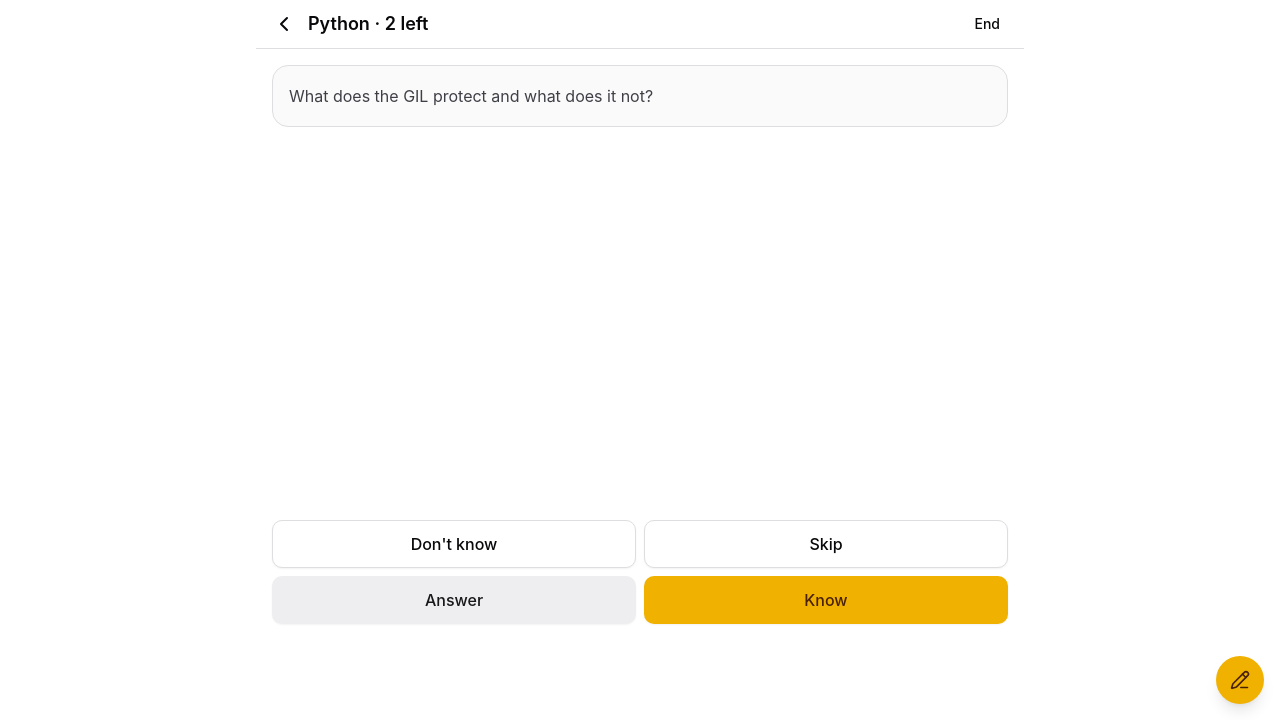
Scenario: Answer with the Sensei › keeps the conversation while the Card is on screen and sends it whole
Expected: the heading "Python · 2 left" is shown, x1=308 y1=13 x2=428 y2=34
Click the button "Know" at coordinates (826, 600), box x1=644 y1=576 x2=1008 y2=624
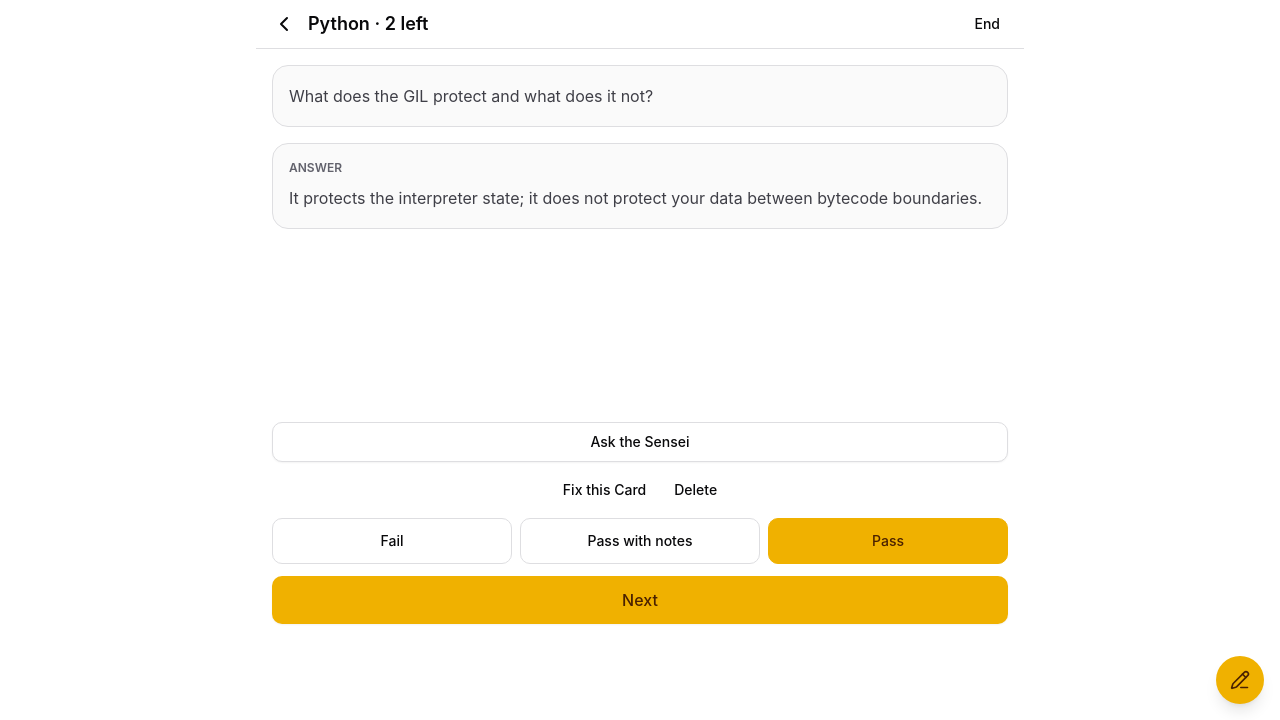
Click the button "Ask the Sensei" at coordinates (640, 442), box x1=272 y1=422 x2=1008 y2=462
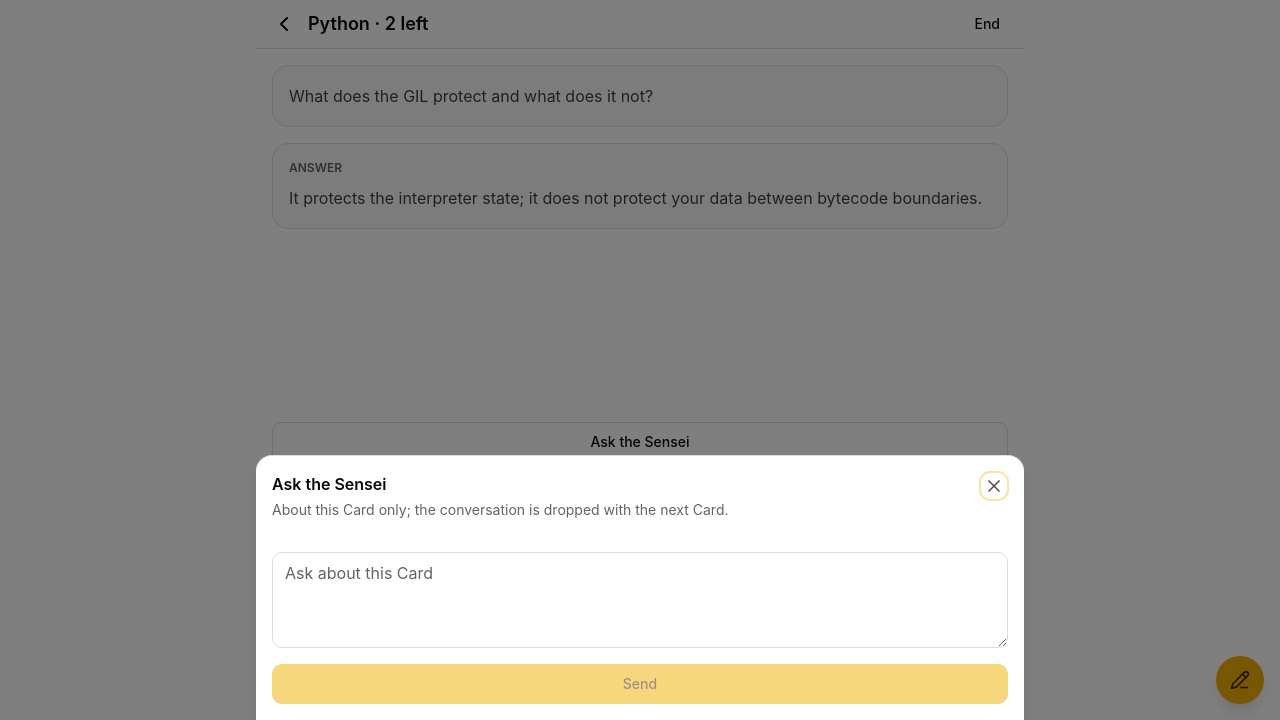
Type "Why?" into the text box named "Your question" at coordinates (640, 600), box x1=272 y1=552 x2=1008 y2=648
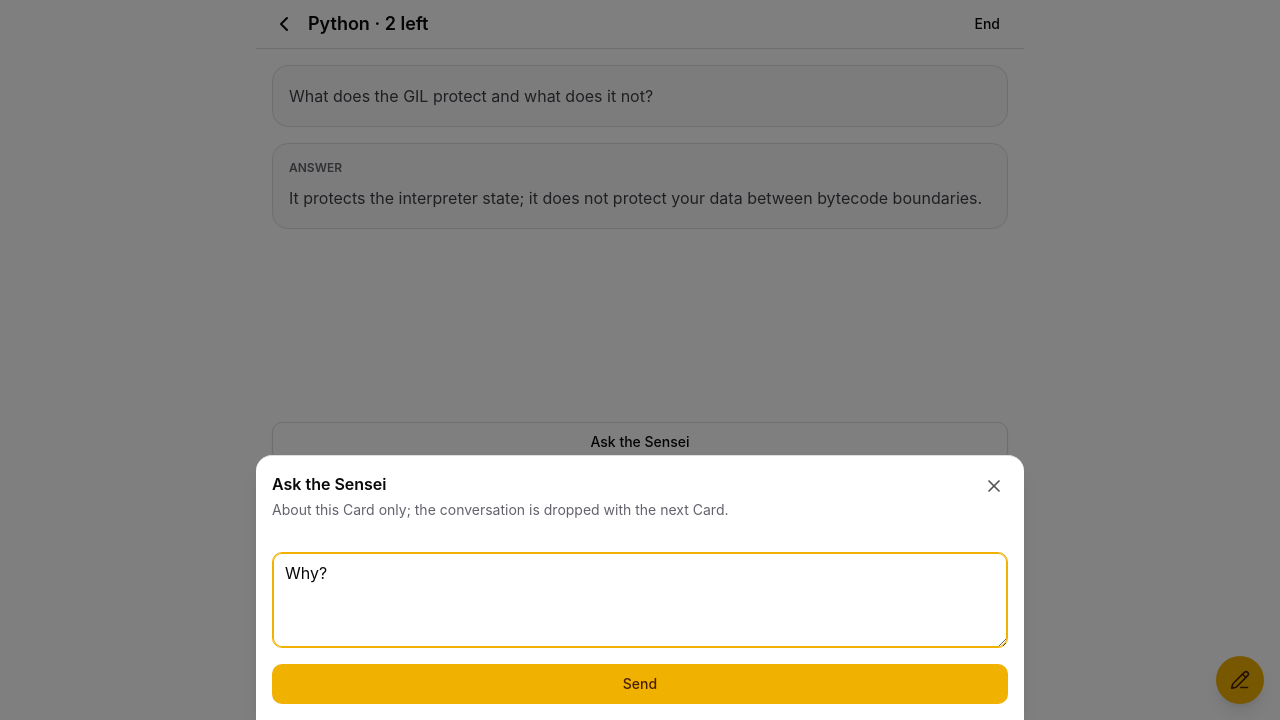
Click the button "Send" at coordinates (640, 684), box x1=272 y1=664 x2=1008 y2=704
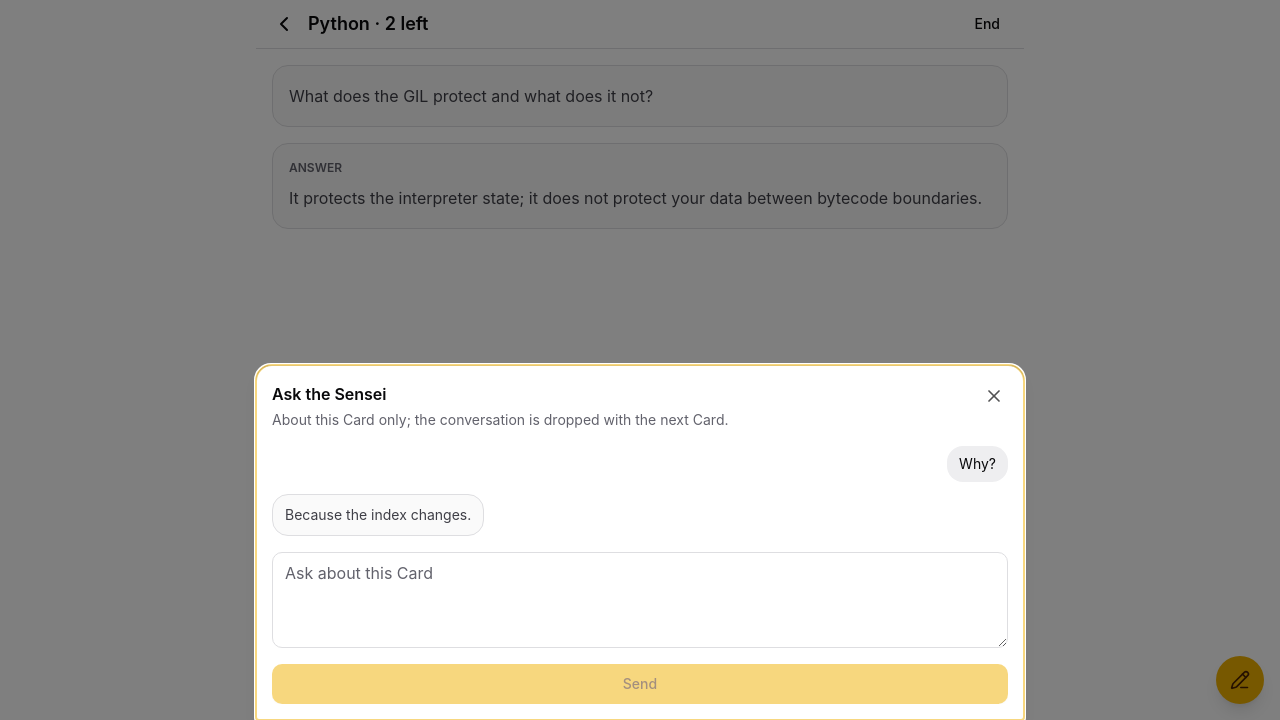
Expected: the text "Because the index changes." is shown, x1=285 y1=503 x2=471 y2=527
Type "Sure?" into the text box named "Your question" at coordinates (640, 600), box x1=272 y1=552 x2=1008 y2=648
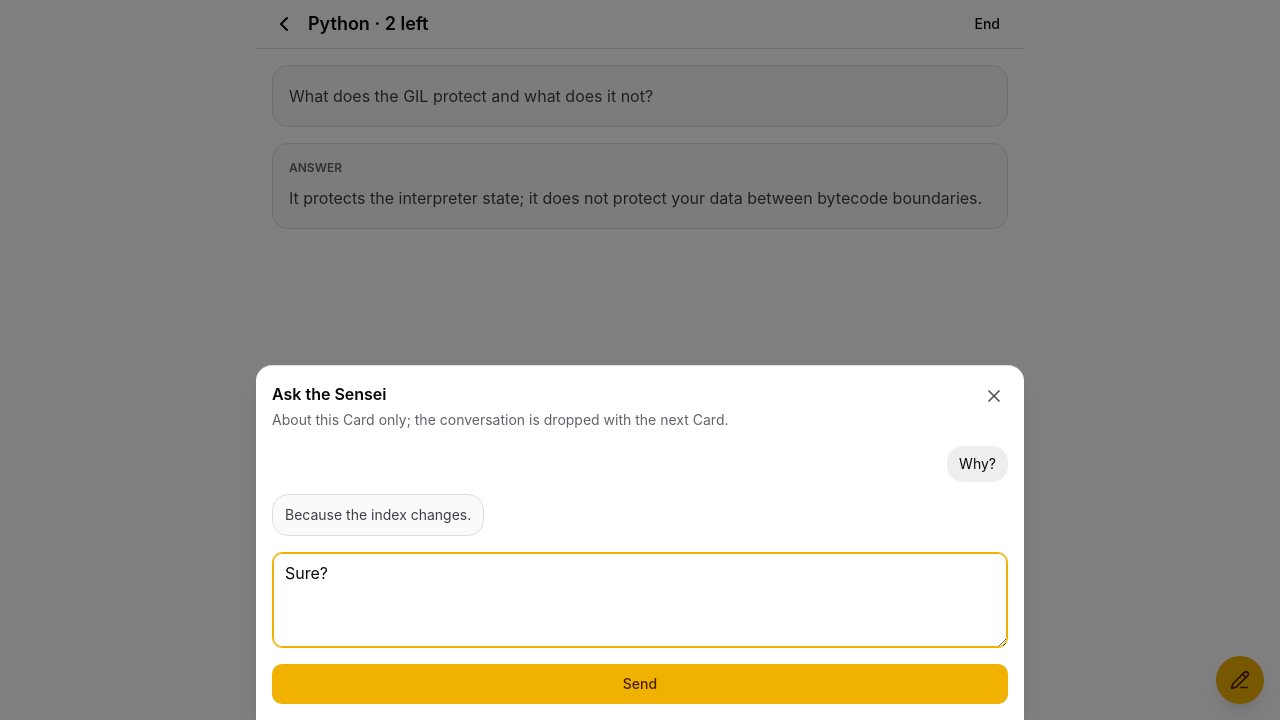
Click the button "Send" at coordinates (640, 684), box x1=272 y1=664 x2=1008 y2=704
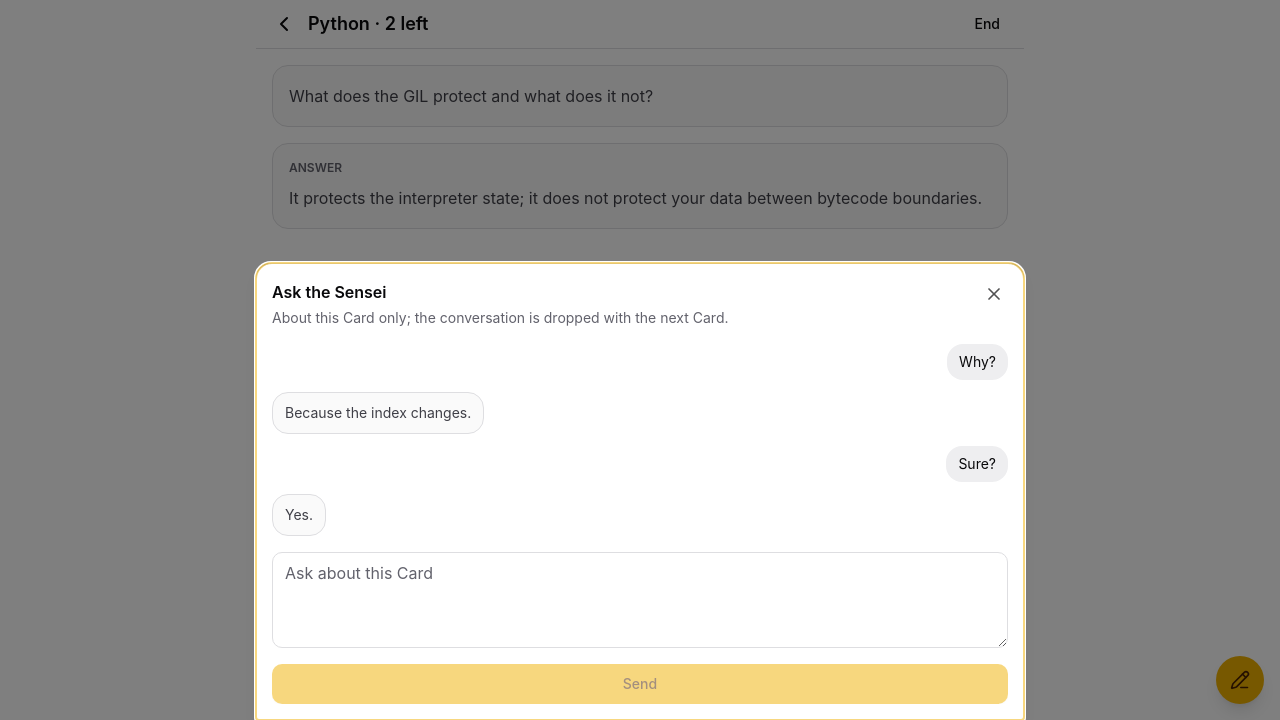
Expected: the text "Yes." is shown, x1=285 y1=503 x2=313 y2=527
